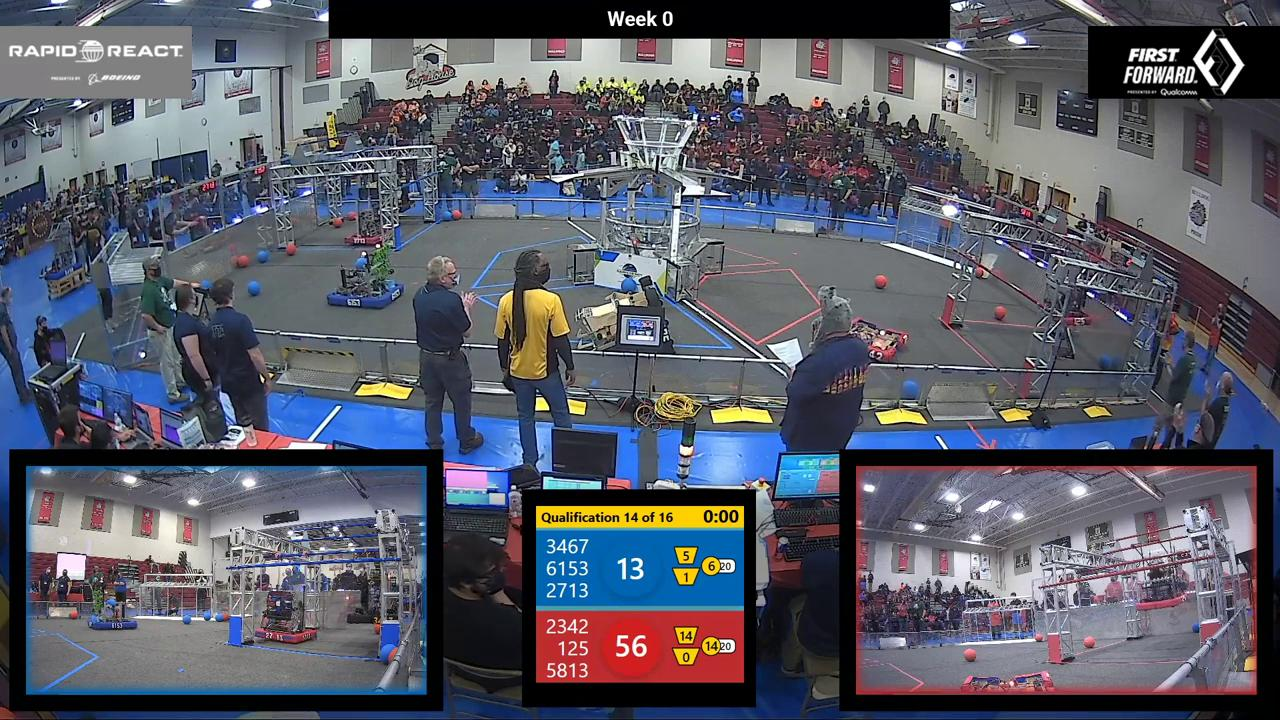robot: (336, 274, 399, 311), (860, 314, 903, 360), (261, 607, 318, 638), (1136, 578, 1189, 611), (959, 671, 1056, 686), (1063, 300, 1094, 329), (88, 615, 138, 632), (347, 224, 380, 243)
